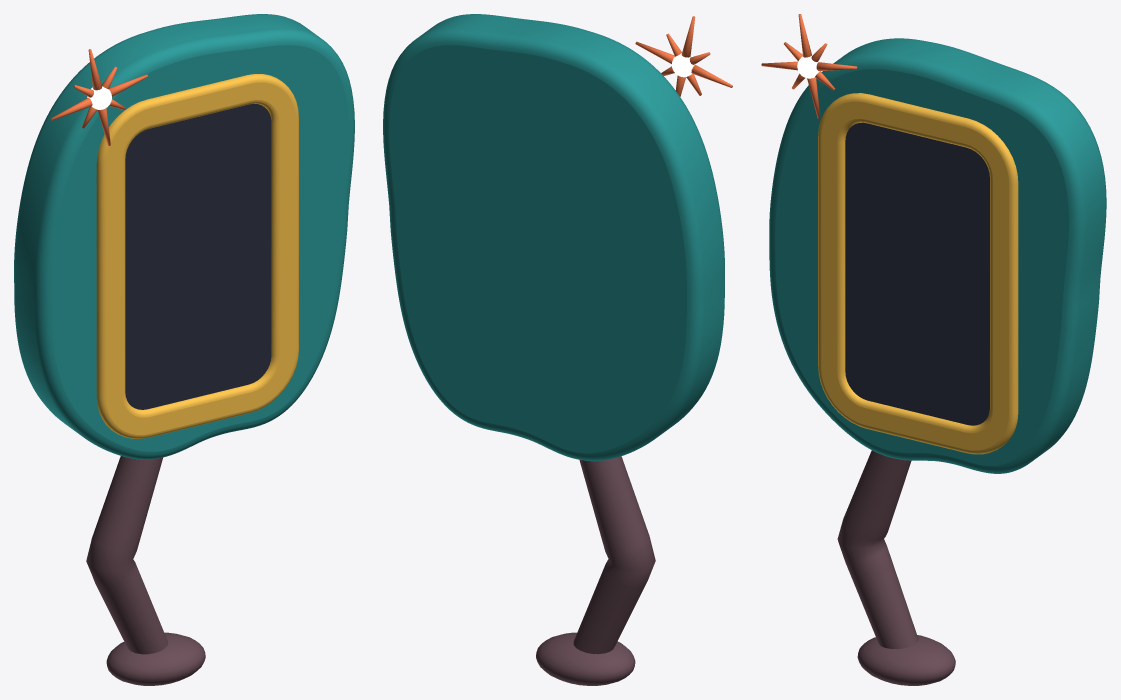
File: BB_KIDNEY_3.glb
3 renders of one model, left to right at view 1: azimuth 30°, elevation 25°; view 2: azimuth 150°, elevation 25°; view 3: azimuth 330°, elevation 25°, orthographic.
Parts seen in each view (by area): view 1: BB_KIDNEY_3_body, BB_KIDNEY_3_FACE, BB_KIDNEY_3_frame, BB_KIDNEY_3_leg, BB_KIDNEY_3_foot; view 2: BB_KIDNEY_3_body, BB_KIDNEY_3_leg, BB_KIDNEY_3_foot; view 3: BB_KIDNEY_3_body, BB_KIDNEY_3_FACE, BB_KIDNEY_3_frame, BB_KIDNEY_3_leg, BB_KIDNEY_3_foot.
Boxes of the visible parts, box(x1,y1,x2,y2) form: BB_KIDNEY_3_body: box(14, 14, 354, 459); BB_KIDNEY_3_FACE: box(125, 103, 271, 409); BB_KIDNEY_3_frame: box(96, 74, 298, 438); BB_KIDNEY_3_leg: box(86, 456, 168, 654); BB_KIDNEY_3_foot: box(106, 632, 205, 685); BB_KIDNEY_3_body: box(383, 14, 724, 461); BB_KIDNEY_3_leg: box(573, 456, 655, 654); BB_KIDNEY_3_foot: box(536, 632, 635, 685); BB_KIDNEY_3_body: box(769, 38, 1106, 473); BB_KIDNEY_3_FACE: box(845, 122, 989, 425); BB_KIDNEY_3_frame: box(818, 93, 1018, 454); BB_KIDNEY_3_leg: box(837, 450, 918, 649); BB_KIDNEY_3_foot: box(857, 635, 955, 685).
Size of the model in its own units: 5.28 by 10.53 by 1.38.
